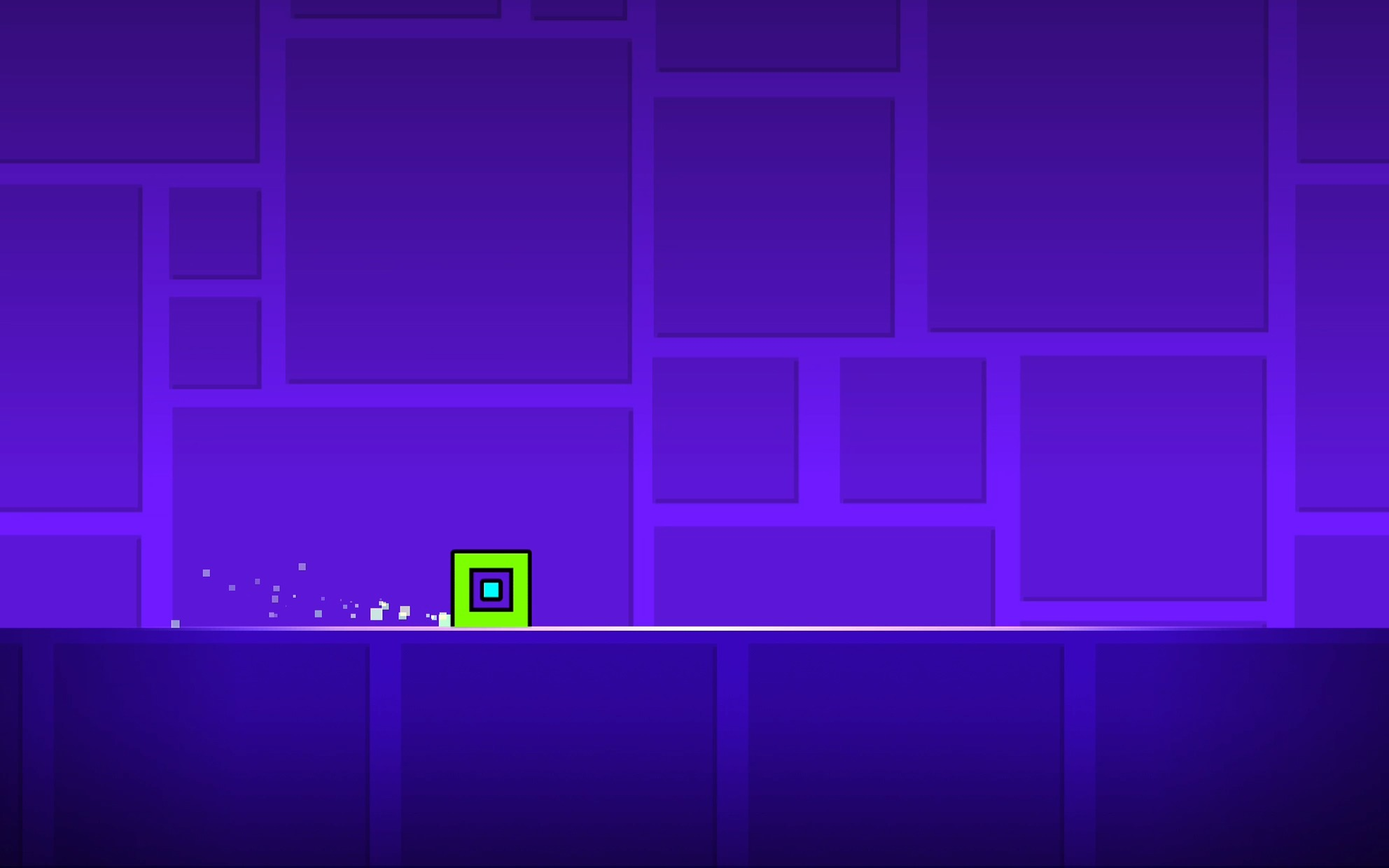Player: (450, 550, 532, 626)
